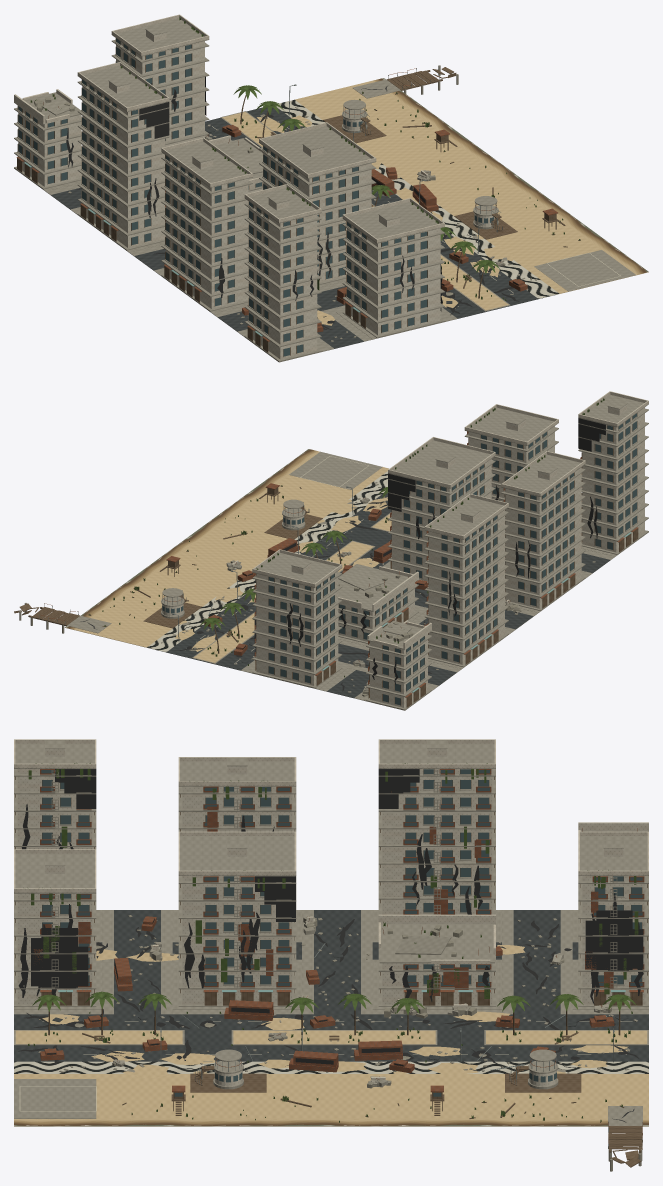
Rendered from rio-fase01.glb.
3 renders of one model, top to bottom at view 1: azimuth 30°, elevation 25°; view 2: azimuth 150°, elevation 25°; view 3: azimuth 270°, elevation 25°, orthographic. The views are drawn at different scales.
Parts seen in each view (by area): view 1: RIO_mapa_01_reboco, RIO_mapa_01_concreto, RIO_mapa_21_areia, RIO_mapa_02_reboco, RIO_mapa_02_concreto, RIO_mapa_00_reboco, RIO_mapa_02_vidro, RIO_mapa_00_concreto, RIO_mapa_01_vidro, RIO_mapa_11_costa_praia, RIO_mapa_11_asfalto, RIO_mapa_00_vidro (+18 smaller); view 2: RIO_mapa_01_reboco, RIO_mapa_01_concreto, RIO_mapa_21_areia, RIO_mapa_00_reboco, RIO_mapa_02_reboco, RIO_mapa_00_concreto, RIO_mapa_02_concreto, RIO_mapa_00_vidro, RIO_mapa_11_asfalto, RIO_mapa_01_vidro, RIO_mapa_11_ondas, RIO_mapa_02_vidro (+18 smaller); view 3: RIO_mapa_01_concreto, RIO_mapa_01_reboco, RIO_mapa_21_areia, RIO_mapa_11_asfalto, RIO_mapa_02_concreto, RIO_mapa_11_fenda, RIO_mapa_00_concreto, RIO_mapa_02_reboco, RIO_mapa_11_ondas, RIO_mapa_01_asfalto, RIO_mapa_11_costa_praia, RIO_mapa_00_asfalto (+36 smaller).
Part boxes in pixels (x1=…): RIO_mapa_01_reboco: x1=77, y1=62, x2=371, y2=308; RIO_mapa_01_concreto: x1=14, y1=65, x2=448, y2=362; RIO_mapa_21_areia: x1=295, y1=81, x2=648, y2=293; RIO_mapa_02_reboco: x1=211, y1=158, x2=443, y2=359; RIO_mapa_02_concreto: x1=194, y1=171, x2=448, y2=361; RIO_mapa_00_reboco: x1=14, y1=14, x2=230, y2=186; RIO_mapa_02_vidro: x1=196, y1=168, x2=414, y2=356; RIO_mapa_00_concreto: x1=14, y1=18, x2=209, y2=213; RIO_mapa_01_vidro: x1=105, y1=96, x2=290, y2=278; RIO_mapa_11_costa_praia: x1=372, y1=78, x2=648, y2=274; RIO_mapa_11_asfalto: x1=205, y1=107, x2=537, y2=318; RIO_mapa_00_vidro: x1=18, y1=38, x2=178, y2=212; RIO_mapa_01_reboco: x1=338, y1=451, x2=585, y2=664; RIO_mapa_01_concreto: x1=249, y1=440, x2=648, y2=710; RIO_mapa_21_areia: x1=65, y1=454, x2=388, y2=647; RIO_mapa_00_reboco: x1=253, y1=526, x2=462, y2=707; RIO_mapa_02_reboco: x1=433, y1=391, x2=648, y2=552; RIO_mapa_00_concreto: x1=248, y1=529, x2=484, y2=710; RIO_mapa_02_concreto: x1=464, y1=394, x2=648, y2=576; RIO_mapa_00_vidro: x1=280, y1=526, x2=483, y2=705; RIO_mapa_11_asfalto: x1=166, y1=493, x2=391, y2=670; RIO_mapa_01_vidro: x1=396, y1=469, x2=566, y2=632; RIO_mapa_11_ondas: x1=147, y1=471, x2=387, y2=652; RIO_mapa_02_vidro: x1=479, y1=413, x2=636, y2=570; RIO_mapa_01_concreto: x1=96, y1=740, x2=578, y2=1014; RIO_mapa_01_reboco: x1=178, y1=739, x2=495, y2=1004; RIO_mapa_21_areia: x1=14, y1=1074, x2=648, y2=1126; RIO_mapa_11_asfalto: x1=14, y1=1014, x2=648, y2=1061; RIO_mapa_02_concreto: x1=14, y1=740, x2=218, y2=1014; RIO_mapa_11_fenda: x1=18, y1=804, x2=643, y2=1122; RIO_mapa_00_concreto: x1=439, y1=770, x2=648, y2=1014; RIO_mapa_02_reboco: x1=14, y1=739, x2=179, y2=1004; RIO_mapa_11_ondas: x1=14, y1=1061, x2=648, y2=1073; RIO_mapa_01_asfalto: x1=100, y1=910, x2=578, y2=1014; RIO_mapa_11_costa_praia: x1=14, y1=1119, x2=648, y2=1126; RIO_mapa_00_asfalto: x1=513, y1=910, x2=560, y2=1014.
Size of the model in its own units: 102 by 35.25 by 108.
15 materials, 10 textured.
